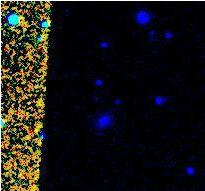star: (9, 16, 39, 46)
